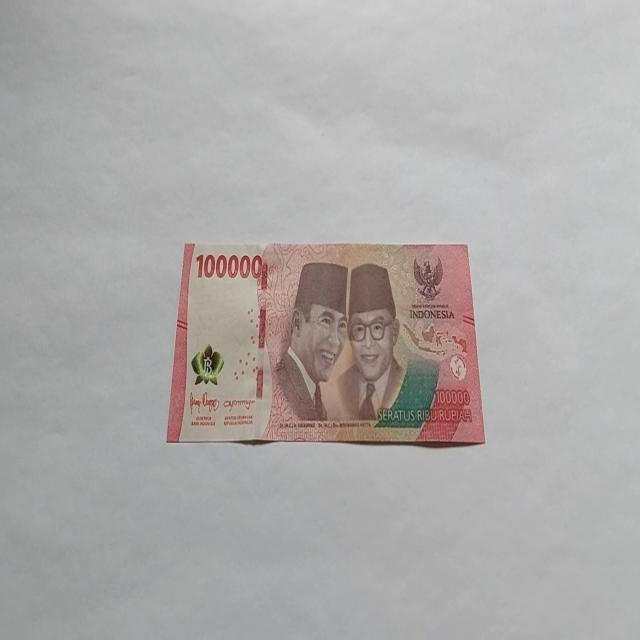seratus ribu rupiah: (166, 239, 486, 447)
